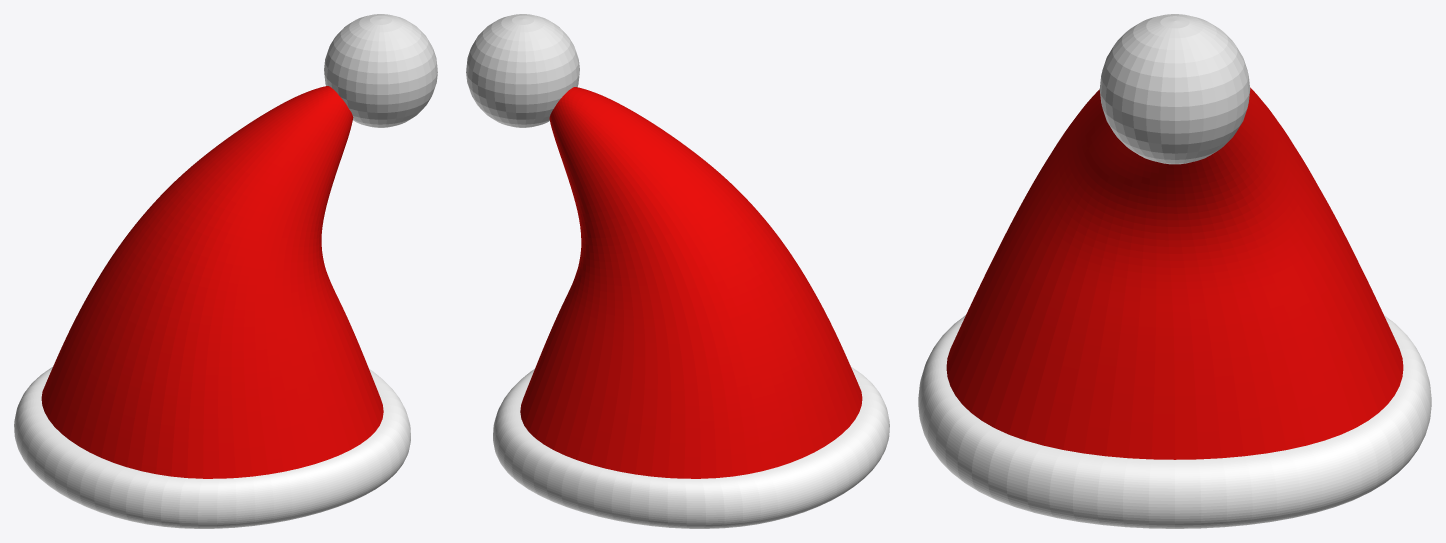
The picture shows the model from 3 angles, left to right: view 1: azimuth 30°, elevation 25°; view 2: azimuth 150°, elevation 25°; view 3: azimuth 270°, elevation 25°; orthographic projection. The views are drawn at different scales.
Visible parts, largest first — view 1: Cube, 球; view 2: Cube, 球; view 3: Cube, 球.
Part boxes in pixels (x1,y1,x2,y2): Cube: (14,86,410,528); 球: (324,14,437,127); Cube: (493,87,889,528); 球: (466,14,579,127); Cube: (918,87,1431,528); 球: (1099,14,1250,164).
Size of the model in its own units: 207 by 202 by 180.
